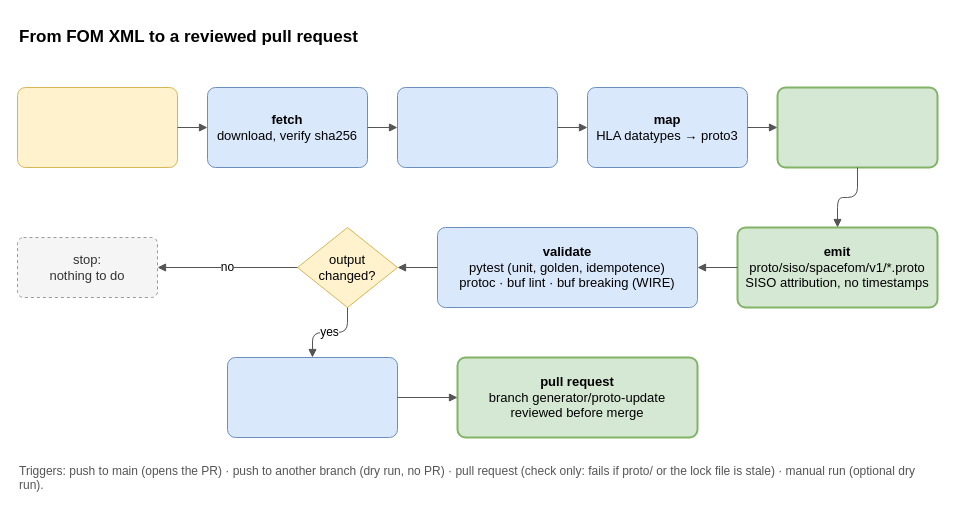
Some shapes in this 956 by 524 pixel diagram are drawn without their labels. Each missing label, with the centre of its shape:
"archive previous tree → history/<UTC>_<sha7>/" belongs at (312,397).
"fom/SOURCE.json upstream commit + sha256 per file" belongs at (97,127).
"number field-ids.lock.json keeps numbers stable" belongs at (857,127).
"parse IEEE 1516-2010 DIF XML (Python stdlib)" belongs at (477,127).
